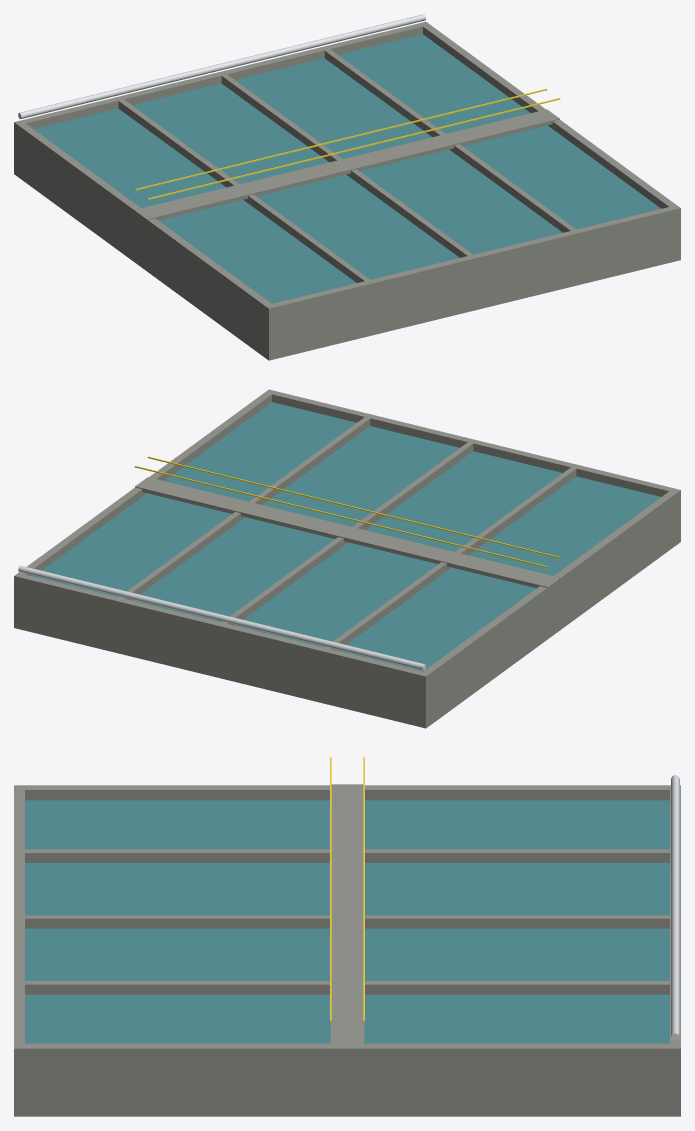
File: site_basin.fbx
The picture shows the model from 3 angles, top to bottom: view 1: azimuth 30°, elevation 25°; view 2: azimuth 150°, elevation 25°; view 3: azimuth 270°, elevation 25°; orthographic projection. The views are drawn at different scales.
Parts seen in each view (by area): view 1: a1058/0/site_basin; view 2: a1058/0/site_basin; view 3: a1058/0/site_basin.
Boxes of the visible parts, x1,y1,x2,y2 form: a1058/0/site_basin: (14, 14, 680, 360); a1058/0/site_basin: (14, 389, 680, 728); a1058/0/site_basin: (14, 757, 680, 1116).
Bounding box in the file's own units: 22.4 × 3.81 × 24.
